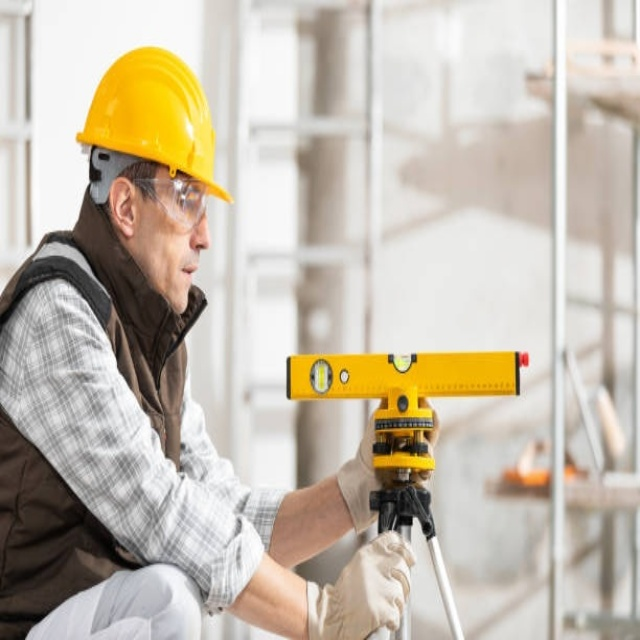Gafas: (134, 173, 207, 235)
Guantes: (339, 407, 435, 533), (307, 530, 416, 640)
Sin_guantes: (398, 403, 442, 490)
Sin_mascara: (164, 249, 204, 312)
